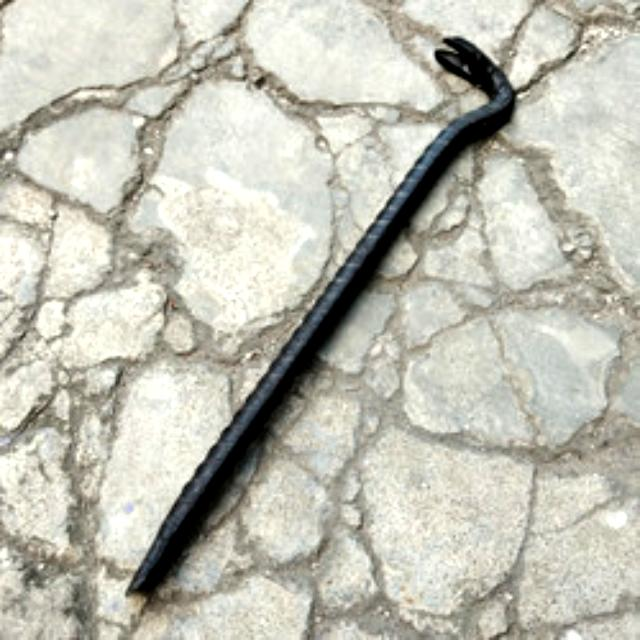crow bar: (120, 26, 526, 614)
